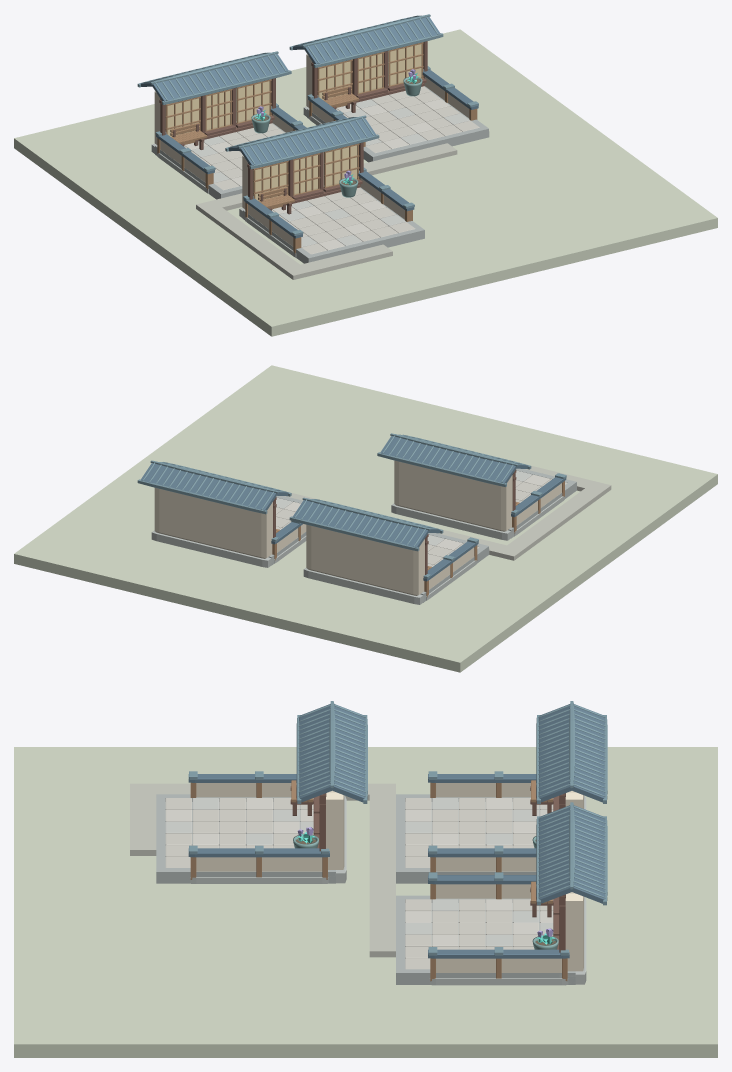
Rendered from gggame_courtyard_paving_soft_v3_03.glb.
The picture shows the model from 3 angles, top to bottom: view 1: azimuth 30°, elevation 25°; view 2: azimuth 150°, elevation 25°; view 3: azimuth 270°, elevation 25°; orthographic projection. The views are drawn at different scales.
Parts seen in each view (by area): view 1: ground, home-2-decor, home-0-decor, home-1-decor, home-2-floor, home-1-floor, home-0-floor, walkway-spine, walkway-row-0-1, walkway-row-1-0; view 2: ground, home-0-decor, home-2-decor, home-1-decor, walkway-spine, home-0-floor, home-2-floor, home-1-floor; view 3: ground, home-1-decor, home-2-decor, home-0-decor, home-1-floor, home-2-floor, home-0-floor, walkway-row-0-1, walkway-spine, walkway-row-0-0, walkway-row-1-0, home-1-entry-step (+2 smaller).
Part boxes in pixels (<box>): ground: <box>14,29,717,336</box>; home-2-decor: <box>225,115,414,257</box>; home-0-decor: <box>137,51,306,193</box>; home-1-decor: <box>289,14,478,146</box>; home-2-floor: <box>242,187,424,263</box>; home-1-floor: <box>307,86,489,162</box>; home-0-floor: <box>155,123,285,199</box>; walkway-spine: <box>196,200,309,279</box>; walkway-row-0-1: <box>363,151,423,175</box>; walkway-row-1-0: <box>300,252,359,275</box>; ground: <box>14,365,717,672</box>; home-0-decor: <box>289,497,478,604</box>; home-2-decor: <box>377,433,566,540</box>; home-1-decor: <box>137,460,306,567</box>; walkway-spine: <box>497,481,611,560</box>; home-0-floor: <box>420,533,489,602</box>; home-2-floor: <box>508,468,576,538</box>; home-1-floor: <box>268,496,306,565</box>; ground: <box>14,747,717,1057</box>; home-1-decor: <box>428,802,607,985</box>; home-2-decor: <box>188,701,367,883</box>; home-0-decor: <box>428,701,607,872</box>; home-1-floor: <box>396,895,575,984</box>; home-2-floor: <box>156,794,335,883</box>; home-0-floor: <box>396,794,553,883</box>; walkway-row-0-1: <box>369,850,395,929</box>; walkway-spine: <box>130,783,395,800</box>; walkway-row-0-0: <box>369,794,395,827</box>; walkway-row-1-0: <box>130,794,156,827</box>; home-1-entry-step: <box>369,929,395,957</box>.
Size of the model in its own units: 18.8 by 3.43 by 18.8.
